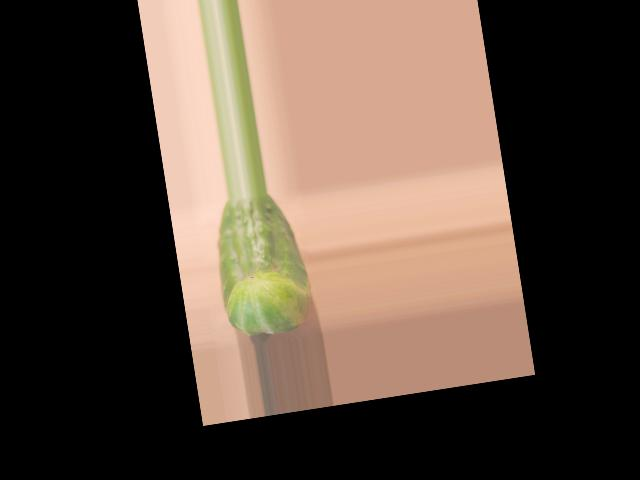cucumber: (207, 189, 315, 340)
